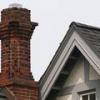chimneys: (0, 7, 38, 100)
